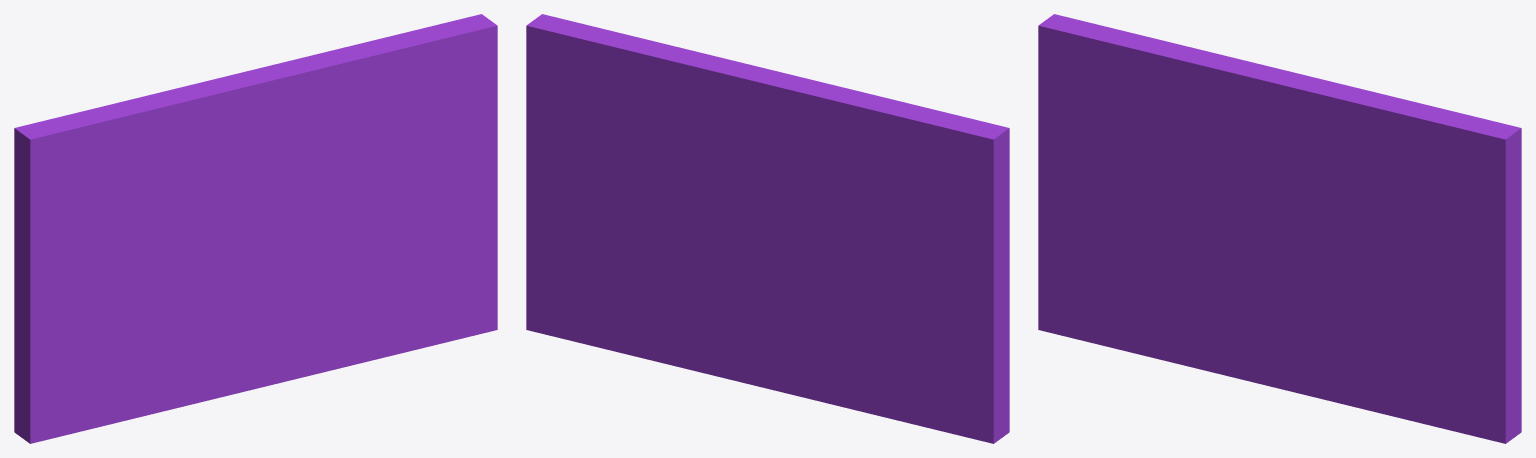
The model's file is Barrier_109_chunks.fbx.
The picture shows the model from 3 angles, left to right: view 1: azimuth 30°, elevation 25°; view 2: azimuth 150°, elevation 25°; view 3: azimuth 330°, elevation 25°; orthographic projection.
Visible parts, largest first — view 1: Barrier_109_2, Barrier_109_1, Barrier_109_5, Barrier_109_4, Barrier_109_8, Barrier_109_6, Barrier_109_0, Barrier_109_7, Barrier_109_9, Barrier_109_3; view 2: Barrier_109_2, Barrier_109_1, Barrier_109_0, Barrier_109_4, Barrier_109_8, Barrier_109_3, Barrier_109_9, Barrier_109_5, Barrier_109_7, Barrier_109_6; view 3: Barrier_109_2, Barrier_109_1, Barrier_109_5, Barrier_109_4, Barrier_109_8, Barrier_109_6, Barrier_109_0, Barrier_109_7, Barrier_109_9, Barrier_109_3.
Boxes of the visible parts, <box> form: Barrier_109_2: <box>270,14,497,378</box>; Barrier_109_1: <box>14,213,296,443</box>; Barrier_109_5: <box>21,103,210,220</box>; Barrier_109_4: <box>180,90,416,235</box>; Barrier_109_8: <box>262,23,477,109</box>; Barrier_109_6: <box>156,74,288,152</box>; Barrier_109_0: <box>14,119,139,259</box>; Barrier_109_7: <box>249,103,352,141</box>; Barrier_109_9: <box>154,67,263,103</box>; Barrier_109_3: <box>33,92,159,127</box>; Barrier_109_2: <box>526,14,760,381</box>; Barrier_109_1: <box>739,208,1009,443</box>; Barrier_109_0: <box>745,131,1009,271</box>; Barrier_109_4: <box>624,93,825,213</box>; Barrier_109_8: <box>562,19,759,109</box>; Barrier_109_3: <box>806,101,982,182</box>; Barrier_109_9: <box>737,75,872,148</box>; Barrier_109_5: <box>872,94,1009,158</box>; Barrier_109_7: <box>678,104,767,137</box>; Barrier_109_6: <box>759,67,872,100</box>; Barrier_109_2: <box>1278,118,1521,443</box>; Barrier_109_1: <box>1038,105,1304,394</box>; Barrier_109_5: <box>1038,19,1218,178</box>; Barrier_109_4: <box>1188,127,1425,238</box>; Barrier_109_8: <box>1288,74,1485,164</box>; Barrier_109_6: <box>1175,53,1296,133</box>; Barrier_109_0: <box>1038,14,1147,152</box>; Barrier_109_7: <box>1257,115,1360,152</box>; Barrier_109_9: <box>1175,49,1301,78</box>; Barrier_109_3: <box>1065,20,1199,52</box>.
Bounding box in the file's own units: 462 × 288 × 27.2.
